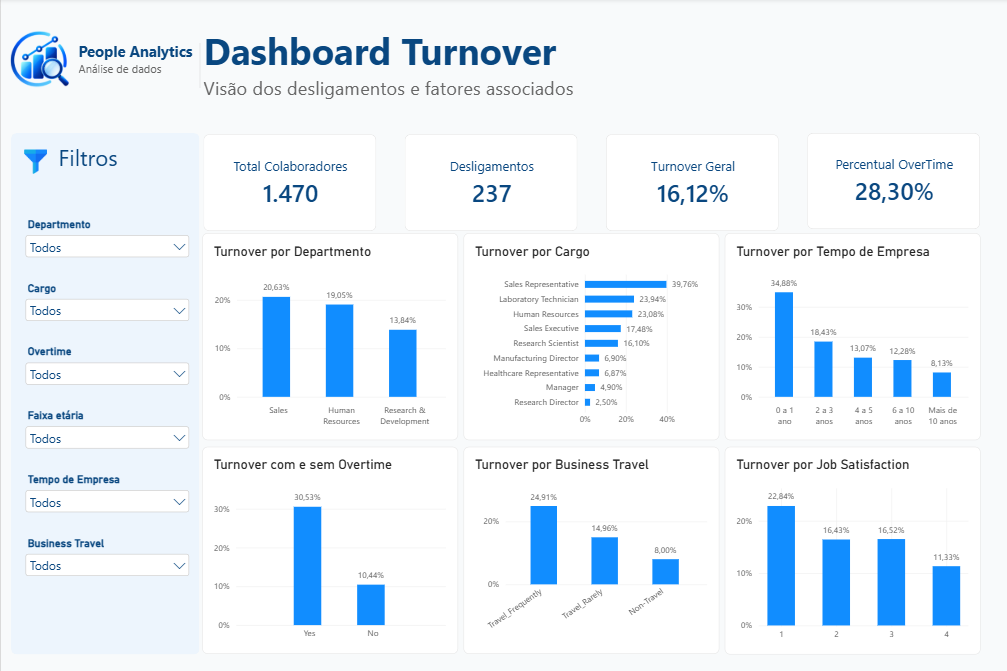

This screenshot's page, from the dashboard's own definition file:
{"tool":"powerbi","page":{"name":"Página 1","canvas":[1920,1080],"ordinal":0},"visuals":[{"type":"shape","box":[15,196,273,755],"z":0},{"type":"clusteredColumnChart","title":"Turnover por Departmento","fields":{"Category":["public hr_employee_attrition.Department"],"Y":["public hr_employee_attrition.Turnover %"]},"box":[291.4,339.9,370,300],"z":1000},{"type":"cardVisual","fields":{"Data":["public hr_employee_attrition.Total Colaboradores"]},"box":[294,197,250,140],"z":2000},{"type":"clusteredBarChart","title":"Turnover por Cargo","fields":{"Category":["public hr_employee_attrition.JobRole"],"Y":["public hr_employee_attrition.Turnover %"]},"box":[669.6,339.9,370,300],"z":3000},{"type":"cardVisual","fields":{"Data":["public hr_employee_attrition.Desligamentos"]},"box":[585.1,197,250,140],"z":4000},{"type":"clusteredColumnChart","title":"Turnover por Tempo de Empresa","fields":{"Category":["public hr_employee_attrition.Faixa Tempo de Empresa"],"Y":["public hr_employee_attrition.Turnover %"]},"box":[1047.8,340.2,370,300],"z":5000},{"type":"cardVisual","fields":{"Data":["public hr_employee_attrition.Turnover Geral"]},"box":[876.2,197,250,140],"z":6000},{"type":"clusteredColumnChart","title":"Turnover com e sem Overtime","fields":{"Category":["public hr_employee_attrition.OverTime"],"Y":["public hr_employee_attrition.Turnover %"]},"box":[291,650,370,300],"z":7000},{"type":"cardVisual","fields":{"Data":["public hr_employee_attrition.Percentual OverTime"]},"box":[1167.2,195.4,250,140],"z":8000},{"type":"clusteredColumnChart","title":"Turnover por Business Travel","fields":{"Category":["public hr_employee_attrition.BusinessTravel"],"Y":["public hr_employee_attrition.Turnover %"]},"box":[669.4,650,370,300],"z":9000},{"type":"clusteredColumnChart","title":"Turnover por Job Satisfaction","fields":{"Category":["public hr_employee_attrition.JobSatisfaction"],"Y":["public hr_employee_attrition.Turnover %"]},"box":[1047.8,649.7,370,300.5],"z":10000},{"type":"textbox","box":[294,40,1604,127],"z":11000},{"type":"slicer","fields":{"Values":["public hr_employee_attrition.Department"]},"box":[31,318.5,247,80.3],"z":12000},{"type":"slicer","fields":{"Values":["public hr_employee_attrition.JobRole"]},"box":[30.5,410.7,247,80.3],"z":13000},{"type":"slicer","fields":{"Values":["public hr_employee_attrition.OverTime"]},"box":[31,502.9,247,80.3],"z":14000},{"type":"slicer","fields":{"Values":["public hr_employee_attrition.Faixa Etária"]},"box":[31,595.2,247,80.3],"z":15000},{"type":"slicer","fields":{"Values":["public hr_employee_attrition.Faixa Tempo de Empresa"]},"box":[31,687.4,247,80.3],"z":16000},{"type":"slicer","fields":{"Values":["public hr_employee_attrition.BusinessTravel"]},"box":[31,779.6,247,80.3],"z":17000},{"type":"image","box":[33.1,214.6,35,43.2],"z":18000},{"type":"textbox","box":[82.5,208.4,162.6,57.6],"z":19000},{"type":"textbox","box":[112,61,176,89],"z":20000},{"type":"shape","box":[237,65,102,65],"z":21000},{"type":"image","box":[0,46,110,84],"z":22000}]}

Visuals, with their boxes on the page's 1920x1080 design canvas (x1, y1, x2, y2). These are canvas units, not pixel positions in the 1007x671 screenshot, which may show the page scaled, cropped or inside an application window:
shape: select_region(15, 196, 288, 951)
"Turnover por Departmento" clusteredColumnChart: select_region(291, 340, 661, 640)
cardVisual - public hr_employee_attrition.Total Colaboradores: select_region(294, 197, 544, 337)
"Turnover por Cargo" clusteredBarChart: select_region(670, 340, 1040, 640)
cardVisual - public hr_employee_attrition.Desligamentos: select_region(585, 197, 835, 337)
"Turnover por Tempo de Empresa" clusteredColumnChart: select_region(1048, 340, 1418, 640)
cardVisual - public hr_employee_attrition.Turnover Geral: select_region(876, 197, 1126, 337)
"Turnover com e sem Overtime" clusteredColumnChart: select_region(291, 650, 661, 950)
cardVisual - public hr_employee_attrition.Percentual OverTime: select_region(1167, 195, 1417, 335)
"Turnover por Business Travel" clusteredColumnChart: select_region(669, 650, 1039, 950)
"Turnover por Job Satisfaction" clusteredColumnChart: select_region(1048, 650, 1418, 950)
textbox: select_region(294, 40, 1898, 167)
slicer - public hr_employee_attrition.Department: select_region(31, 318, 278, 399)
slicer - public hr_employee_attrition.JobRole: select_region(30, 411, 278, 491)
slicer - public hr_employee_attrition.OverTime: select_region(31, 503, 278, 583)
slicer - public hr_employee_attrition.Faixa Etária: select_region(31, 595, 278, 676)
slicer - public hr_employee_attrition.Faixa Tempo de Empresa: select_region(31, 687, 278, 768)
slicer - public hr_employee_attrition.BusinessTravel: select_region(31, 780, 278, 860)
image: select_region(33, 215, 68, 258)
textbox: select_region(82, 208, 245, 266)
textbox: select_region(112, 61, 288, 150)
shape: select_region(237, 65, 339, 130)
image: select_region(0, 46, 110, 130)
